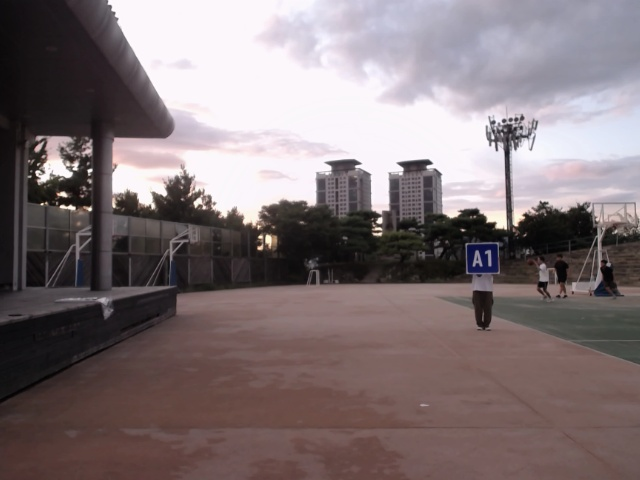delivery_a1: (466, 243, 500, 274)
